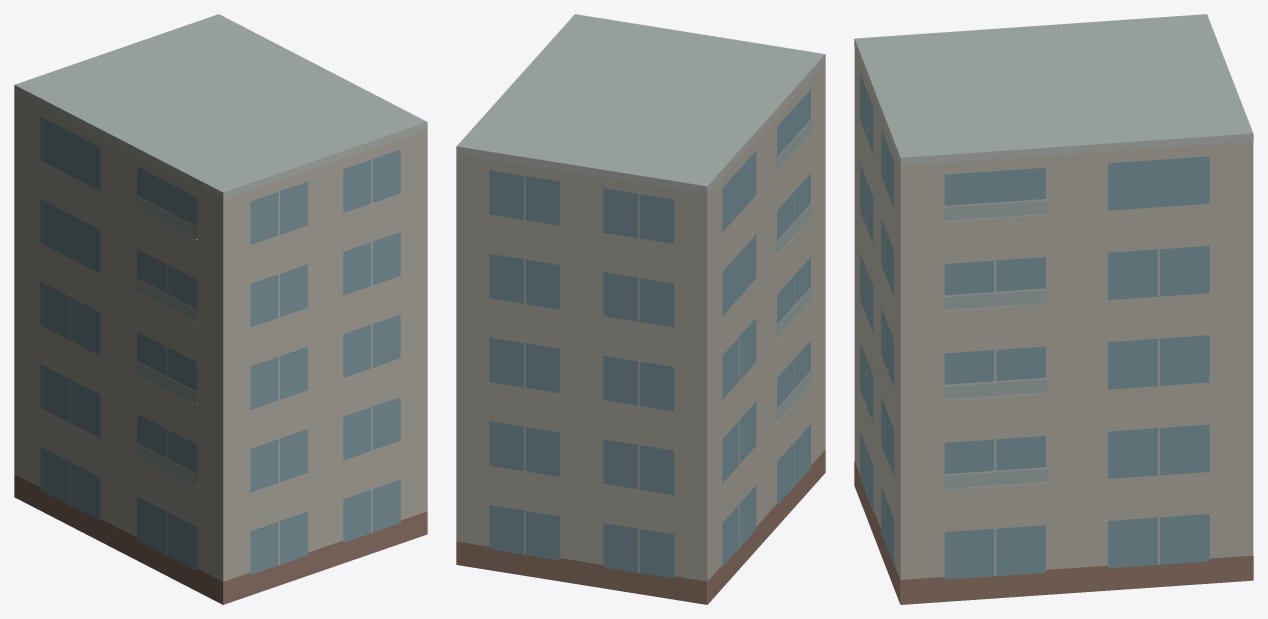
File: survey-upis-32952684.glb
The picture shows the model from 3 angles, left to right: view 1: azimuth 30°, elevation 25°; view 2: azimuth 150°, elevation 25°; view 3: azimuth 270°, elevation 25°; orthographic projection. The views are drawn at different scales.
Parts seen in each view (by area): view 1: survey-upis-32952684.tmp; view 2: survey-upis-32952684.tmp; view 3: survey-upis-32952684.tmp.
Part boxes in pixels (x1,y1,x2,y2): survey-upis-32952684.tmp: [14, 14, 427, 604]; survey-upis-32952684.tmp: [456, 14, 825, 604]; survey-upis-32952684.tmp: [854, 14, 1253, 604].
Bounding box in the file's own units: 9.12 × 13.2 × 10.69.
